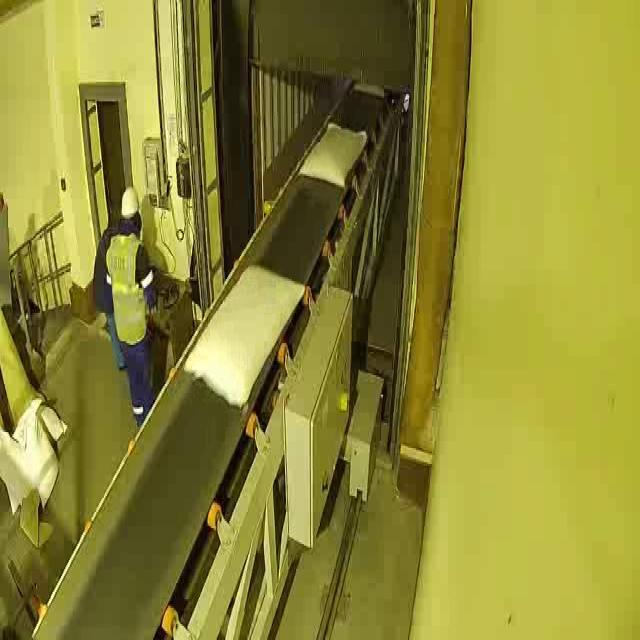bag: (182, 258, 306, 410), (298, 116, 369, 190), (354, 84, 389, 98)
